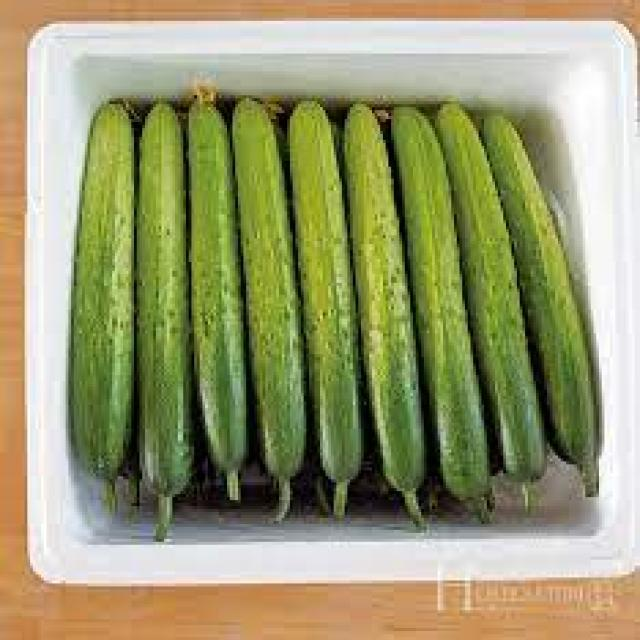Cucumber: (484, 116, 599, 496), (440, 104, 547, 481), (394, 107, 492, 503), (345, 104, 427, 525), (232, 98, 306, 522), (290, 101, 364, 519), (182, 87, 254, 486), (120, 95, 192, 494), (63, 94, 134, 493)
